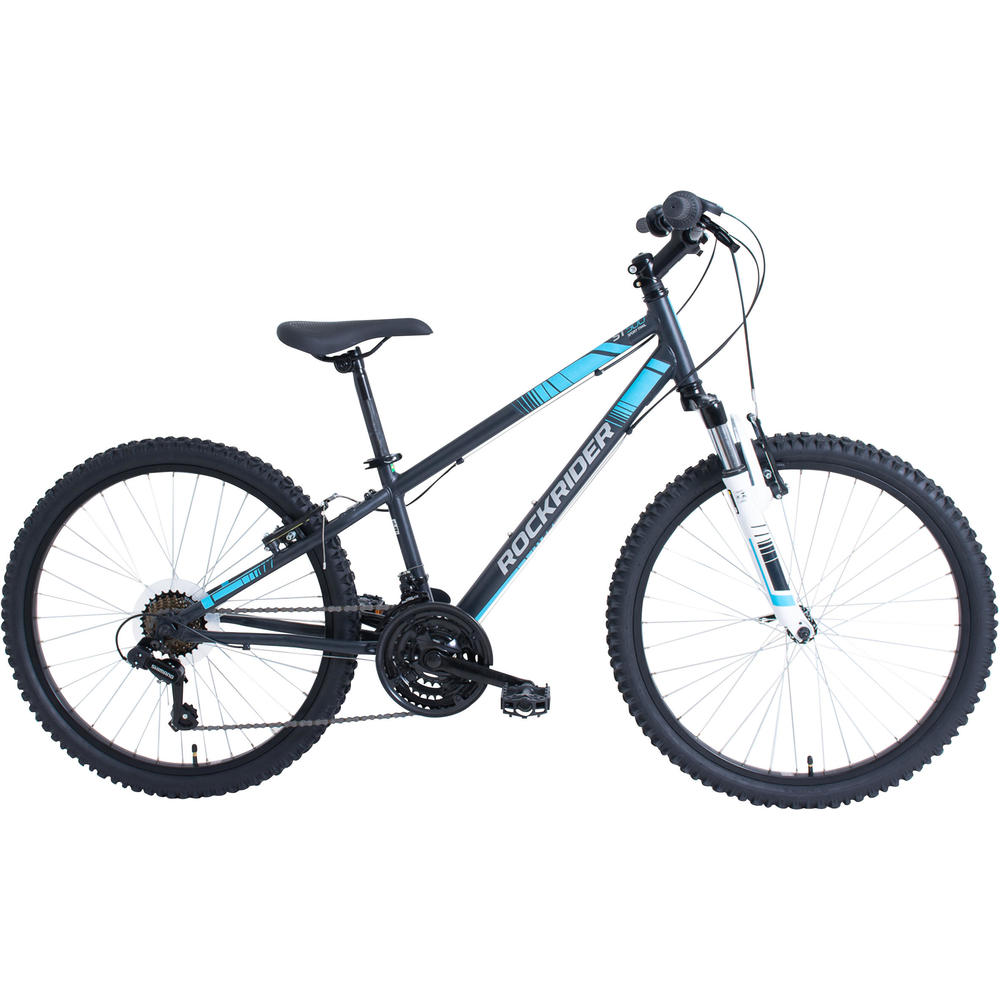Kids_bicycle: (3, 210, 1000, 837)
